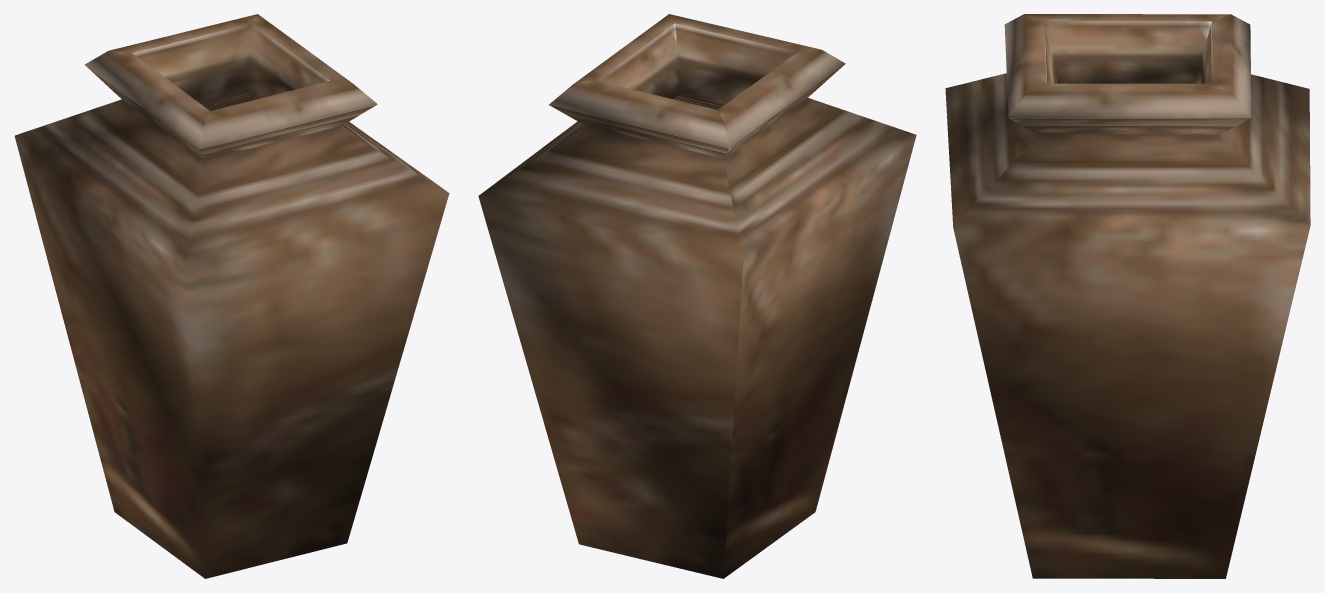
The model's file is 6002_Item_taoguan05.FBX.
3 views of the same model, side by side, from view 1: azimuth 30°, elevation 25°; view 2: azimuth 150°, elevation 25°; view 3: azimuth 270°, elevation 25° (orthographic). The views are drawn at different scales.
Parts seen in each view (by area): view 1: 6002_Item_taoguan05; view 2: 6002_Item_taoguan05; view 3: 6002_Item_taoguan05.
Boxes of the visible parts, left/top/right/bottom form: 6002_Item_taoguan05: left=14, top=14, right=449, bottom=578; 6002_Item_taoguan05: left=478, top=14, right=916, bottom=578; 6002_Item_taoguan05: left=945, top=14, right=1310, bottom=578.
Bounding box in the file's own units: 55.88 × 91.56 × 61.9.
